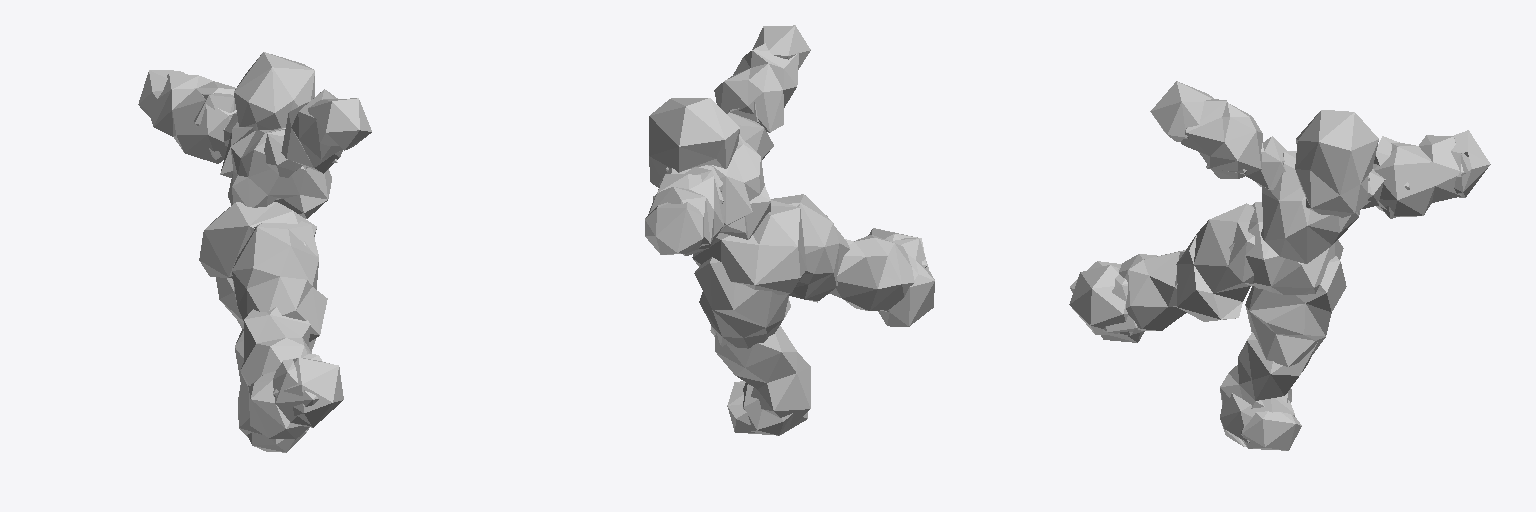
Rendered from dance_frames0343.obj.
The picture shows the model from 3 angles: view 1: azimuth 30°, elevation 25°; view 2: azimuth 150°, elevation 25°; view 3: azimuth 270°, elevation 25°; orthographic projection.
Parts seen in each view (by area): view 1: Beta_Surface; view 2: Beta_Surface; view 3: Beta_Surface.
Part boxes in pixels (bbox=[...]): Beta_Surface: bbox=[138, 52, 371, 452]; Beta_Surface: bbox=[645, 25, 934, 435]; Beta_Surface: bbox=[1069, 81, 1490, 450].
Size of the model in its own units: 1 by 2.07 by 2.12.